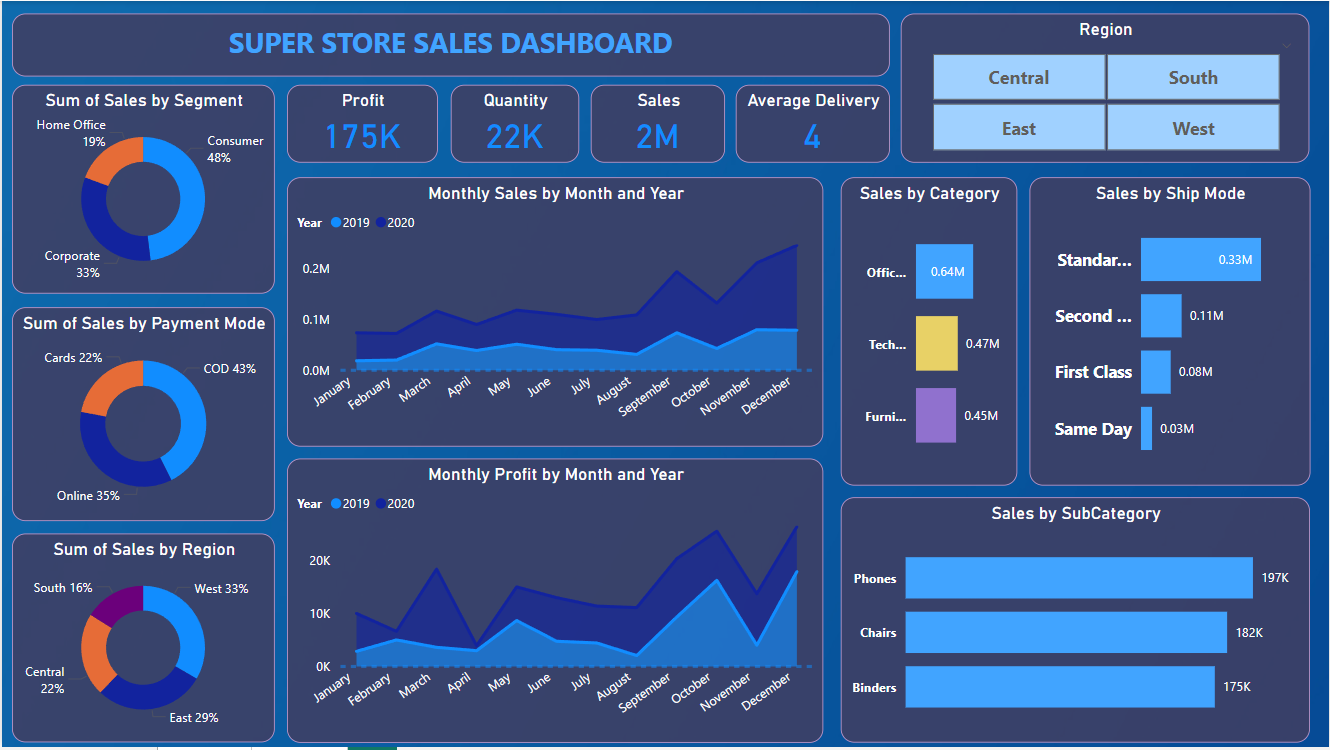

The page's visual inventory and layout, read from the dashboard file:
{"tool":"powerbi","page":{"name":"Page 1","canvas":[1280,720],"ordinal":0},"visuals":[{"type":"clusteredBarChart","title":"Sales by Category","fields":{"Category":["Sheet1.Category"],"Y":["Sum(Sheet1.Sales)"]},"box":[809.4,170.2,170.2,297.2],"z":0},{"type":"clusteredBarChart","title":"Sales by SubCategory","fields":{"Category":["Sheet1.Sub-Category"],"Y":["Sum(Sheet1.Sales)"]},"box":[809.4,479,453,236.6],"z":1000},{"type":"clusteredBarChart","title":"Sales by Ship Mode","fields":{"Y":["Sum(Sheet1.Sales)"],"Category":["Sheet1.Ship Mode"]},"box":[991.2,170.2,271.2,297.2],"z":2000},{"type":"stackedAreaChart","title":"Monthly Sales by Month and Year","fields":{"Category":["Sheet1 (2).Order Date.Variation.Date Hierarchy.Month","Sheet1 (2).Order Date.Variation.Date Hierarchy.Day"],"Y":["Sum(Sheet1 (2).Sales)"],"Series":["Sheet1 (2).Order Date.Variation.Date Hierarchy.Year"]},"box":[275.6,170.2,518,259.7],"z":3000},{"type":"stackedAreaChart","title":"Monthly Profit by Month and Year","fields":{"Category":["Sheet1 (2).Order Date.Variation.Date Hierarchy.Month","Sheet1 (2).Order Date.Variation.Date Hierarchy.Day"],"Series":["Sheet1 (2).Order Date.Variation.Date Hierarchy.Year"],"Y":["Sum(Sheet1 (2).Profit)"]},"box":[275.6,441.5,518,274.1],"z":4000},{"type":"donutChart","fields":{"Category":["Sheet1 (2).Segment"],"Y":["Sum(Sheet1 (2).Sales)"]},"box":[10.1,80.8,253.9,202],"z":5000},{"type":"donutChart","fields":{"Y":["Sum(Sheet1 (2).Sales)"],"Category":["Sheet1 (2).Payment Mode"]},"box":[10.1,295.8,253.9,206.3],"z":6000},{"type":"slicer","title":"Region","fields":{"Values":["Sheet1 (2).Region"]},"box":[868,12,394.7,144],"z":7000},{"type":"textbox","box":[10.1,11.5,846.9,60.6],"z":8000},{"type":"card","title":"Sales","fields":{"Values":["Sum(Sheet1 (2).Sales)"]},"box":[568.4,80.8,129.8,75],"z":9000},{"type":"card","title":"Quantity","fields":{"Values":["Sum(Sheet1 (2).Quantity)"]},"box":[432.8,80.8,124.1,75],"z":10000},{"type":"card","title":"Profit","fields":{"Values":["Sum(Sheet1 (2).Profit)"]},"box":[275.6,80.8,145.7,75],"z":11000},{"type":"card","title":"Average Delivery","fields":{"Values":["Avg(Sheet1.AvgDelivery)"]},"box":[708.4,80.8,148.6,75],"z":12000},{"type":"donutChart","fields":{"Category":["Sheet1 (2).Region"],"Y":["Sum(Sheet1 (2).Sales)"]},"box":[10.1,513.6,253.9,202],"z":13000}]}

Visuals, with their boxes in screenshot pixels (x1, y1, x2, y2), scaled from the page's 1280x720 canvas onto the 1330x750 screenshot:
"Sales by Category" clusteredBarChart: [841, 177, 1018, 487]
"Sales by SubCategory" clusteredBarChart: [841, 499, 1312, 745]
"Sales by Ship Mode" clusteredBarChart: [1030, 177, 1312, 487]
"Monthly Sales by Month and Year" stackedAreaChart: [286, 177, 825, 448]
"Monthly Profit by Month and Year" stackedAreaChart: [286, 460, 825, 745]
donutChart - Sheet1 (2).Segment x Sum(Sheet1 (2).Sales): [10, 84, 274, 295]
donutChart - Sum(Sheet1 (2).Sales) x Sheet1 (2).Payment Mode: [10, 308, 274, 523]
"Region" slicer: [902, 12, 1312, 162]
textbox: [10, 12, 890, 75]
"Sales" card: [591, 84, 725, 162]
"Quantity" card: [450, 84, 579, 162]
"Profit" card: [286, 84, 438, 162]
"Average Delivery" card: [736, 84, 890, 162]
donutChart - Sheet1 (2).Region x Sum(Sheet1 (2).Sales): [10, 535, 274, 745]
